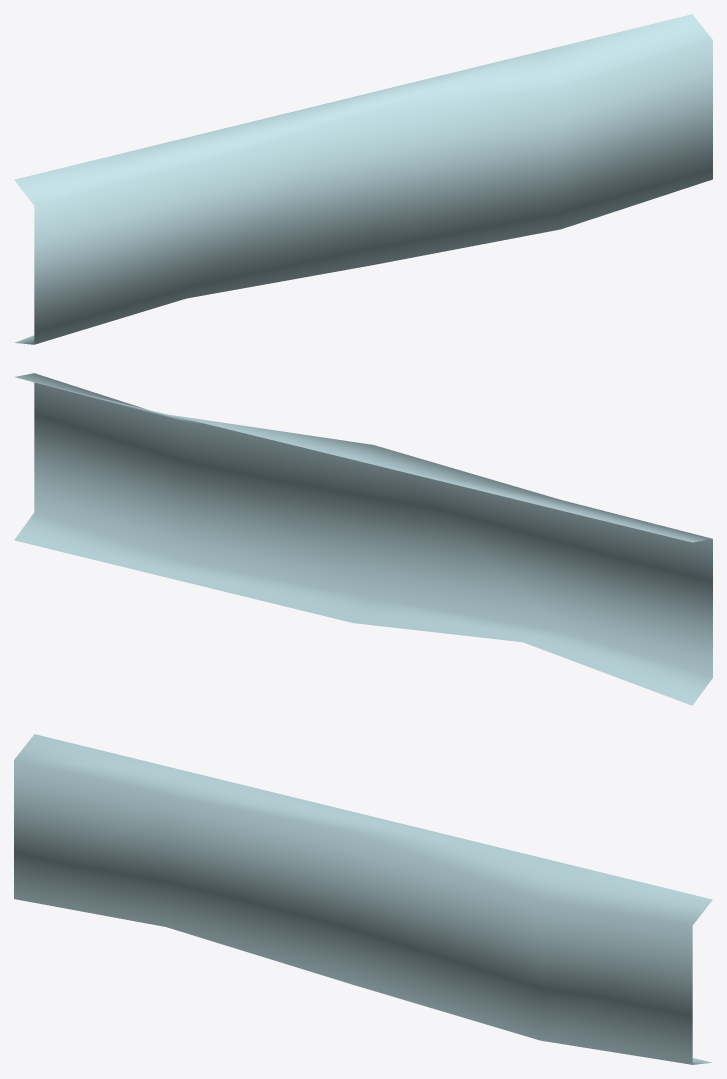
File: Trim_Flat_R_Base.fbx
3 views of the same model, one above another, from view 1: azimuth 30°, elevation 25°; view 2: azimuth 150°, elevation 25°; view 3: azimuth 330°, elevation 25° (orthographic).
Parts seen in each view (by area): view 1: Trim_Flat_R_01; view 2: Trim_Flat_R_01; view 3: Trim_Flat_R_01.
Part boxes in pixels (box(x1,y1,x2,y2)): Trim_Flat_R_01: box(14, 14, 712, 344); Trim_Flat_R_01: box(14, 373, 712, 705); Trim_Flat_R_01: box(14, 734, 712, 1064).
Bounding box in the file's own units: 100 × 22.99 × 5.22.
